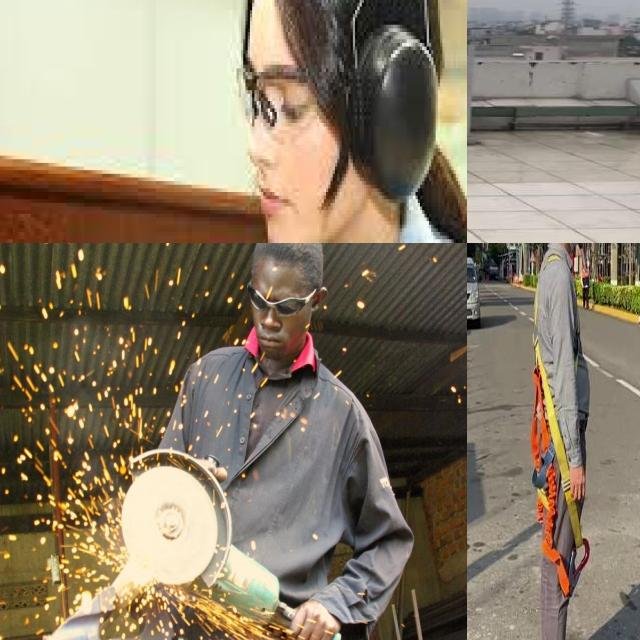Ear-protection: (323, 0, 448, 206)
Harness: (533, 340, 586, 598)
No_Ear-Protection: (309, 279, 331, 320)
